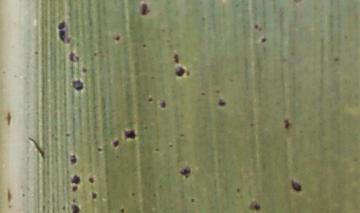tarspot: (28, 135, 45, 160), (290, 178, 302, 193), (72, 79, 84, 91), (179, 166, 191, 178), (139, 2, 149, 16), (124, 128, 135, 140), (57, 30, 67, 43), (68, 152, 77, 165), (174, 66, 185, 76), (250, 201, 261, 211), (71, 174, 80, 184), (283, 118, 290, 130), (58, 20, 66, 30), (112, 138, 120, 148), (6, 189, 12, 202), (173, 52, 179, 64), (86, 176, 95, 184), (68, 51, 75, 61), (72, 203, 79, 213), (159, 99, 166, 108), (90, 191, 97, 200), (7, 111, 11, 126), (218, 98, 225, 106), (248, 121, 255, 128), (185, 69, 191, 77), (118, 207, 126, 213), (81, 67, 88, 73), (147, 96, 153, 103), (153, 147, 160, 153), (143, 124, 149, 131), (235, 187, 241, 194), (151, 191, 157, 198), (71, 185, 78, 191), (33, 50, 39, 56), (115, 35, 121, 41), (141, 42, 147, 48), (261, 37, 267, 43), (62, 204, 66, 213), (64, 132, 71, 137), (75, 55, 80, 61), (97, 147, 103, 152), (167, 143, 173, 148), (179, 132, 185, 137), (200, 91, 206, 96), (215, 89, 221, 94), (201, 15, 206, 21), (254, 23, 259, 29), (190, 197, 195, 203), (21, 192, 26, 198), (67, 36, 71, 43), (151, 74, 155, 81), (258, 27, 263, 32), (131, 192, 136, 197), (71, 198, 76, 203), (8, 204, 13, 209), (93, 51, 97, 57), (334, 58, 340, 62)
